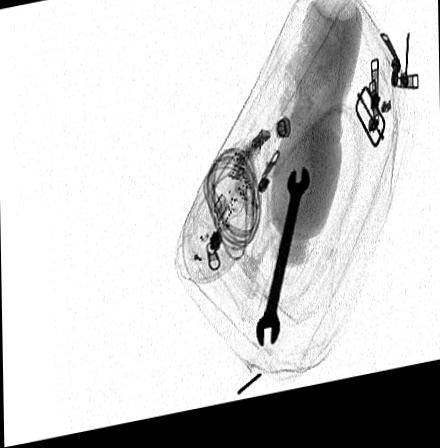Wrench: (254, 176, 311, 356)
